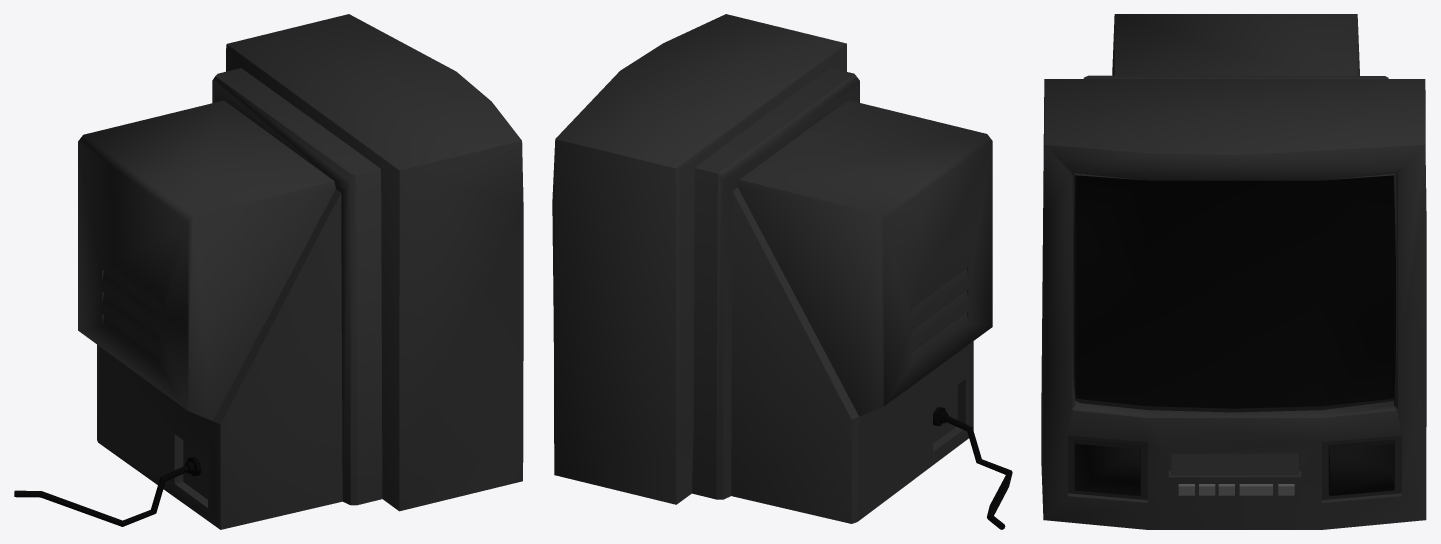
The model's file is tv-crt-07.lod.glb.
3 views of the same model, side by side, from view 1: azimuth 30°, elevation 25°; view 2: azimuth 150°, elevation 25°; view 3: azimuth 270°, elevation 25° (orthographic). The views are drawn at different scales.
Parts seen in each view (by area): view 1: Mesh_TV_CRT_07; view 2: Mesh_TV_CRT_07; view 3: Mesh_TV_CRT_07.
Part boxes in pixels (x1,y1,x2,y2): Mesh_TV_CRT_07: [14, 14, 523, 529]; Mesh_TV_CRT_07: [552, 14, 1012, 529]; Mesh_TV_CRT_07: [1041, 14, 1426, 529].
Size of the model in its own units: 0.8304 by 0.6485 by 0.5972.
Materials: 1 (1 with a texture image).
